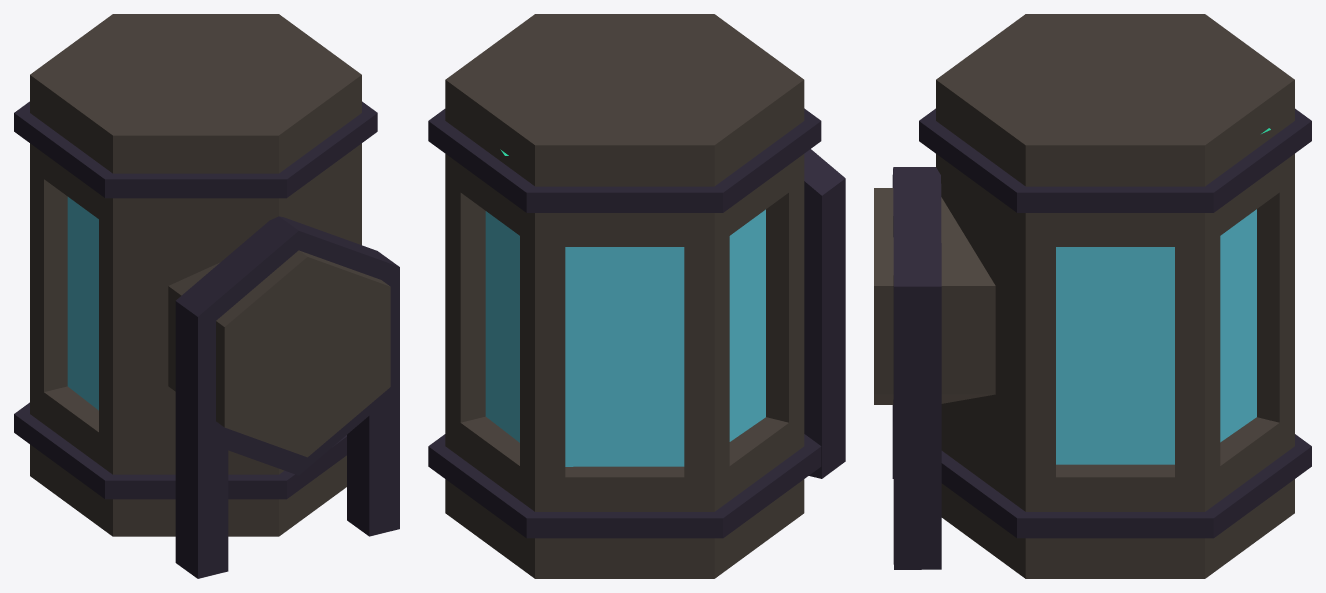
The model's file is ExtractorLower.fbx.
The picture shows the model from 3 angles, left to right: view 1: azimuth 30°, elevation 25°; view 2: azimuth 150°, elevation 25°; view 3: azimuth 270°, elevation 25°; orthographic projection. The views are drawn at different scales.
Parts seen in each view (by area): view 1: Extractor_LOD2; view 2: Extractor_LOD2; view 3: Extractor_LOD2.
Boxes of the visible parts, x1,y1,x2,y2 form: Extractor_LOD2: (14,14,399,578); Extractor_LOD2: (428,14,845,578); Extractor_LOD2: (874,14,1311,578).
Size of the model in its own units: 71.15 by 101 by 91.53.
